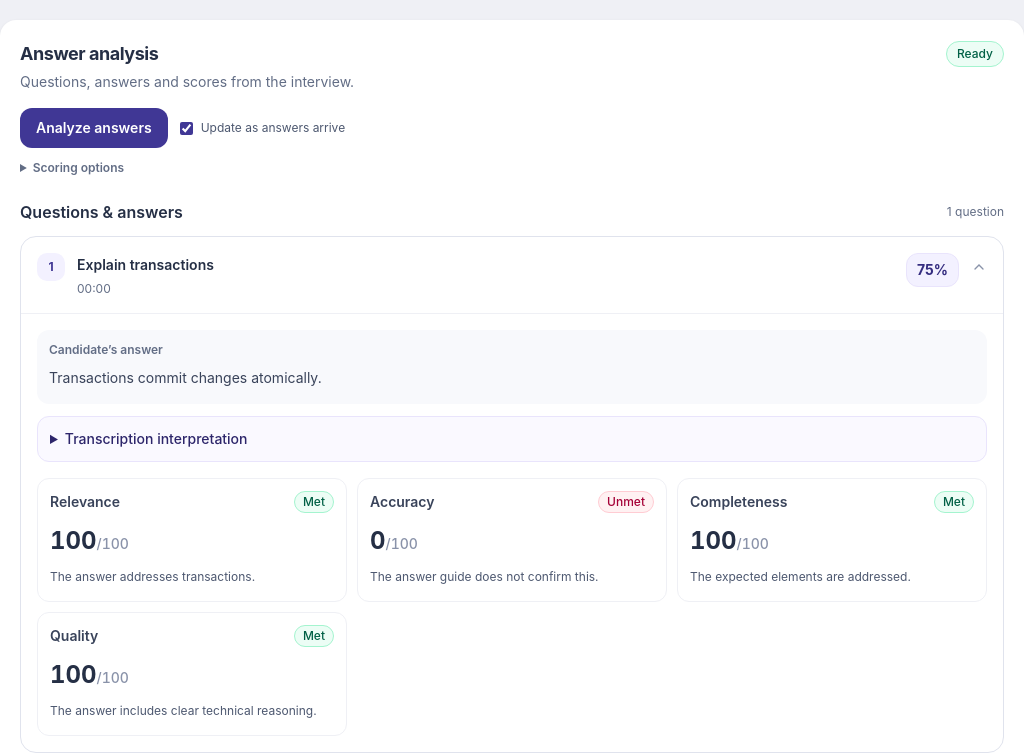
simplified interviewer answer analysis › discloses contextual ASR readings while leaving the original answer unchanged
Click the heading "Transcription interpretation": [156, 438] box [65, 430, 248, 447]
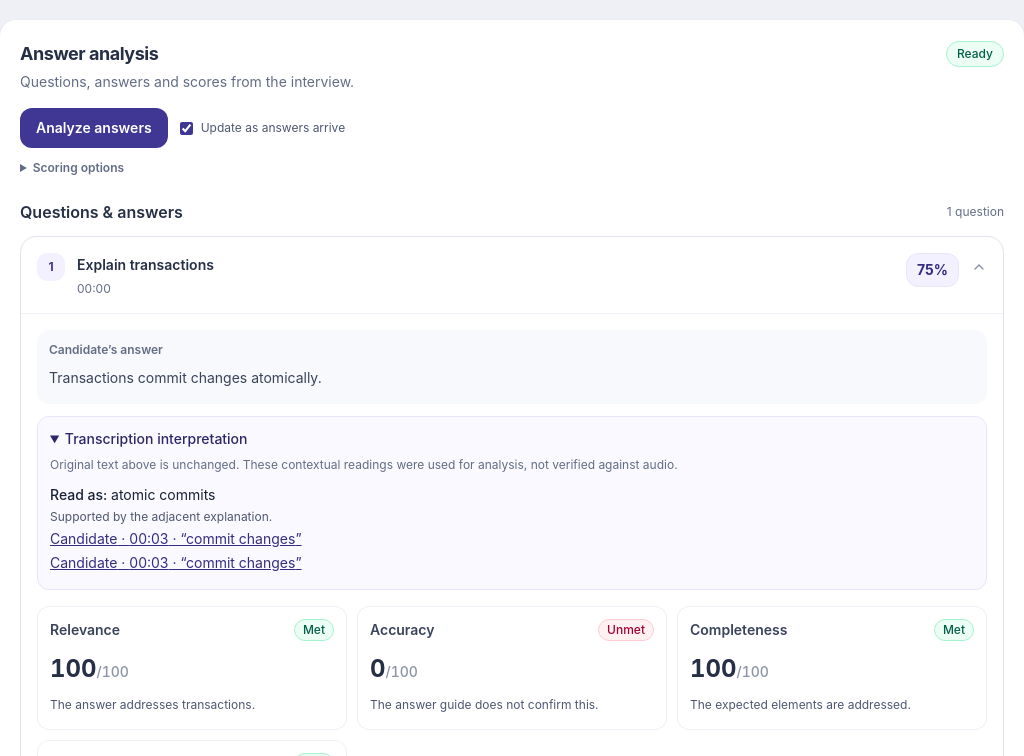
Check: the text "Transactions commit changes atomically." is shown, box [49, 369, 322, 386]
Check: the text "atomic commits" is shown, box [111, 486, 215, 503]
Check: the text "not verified against audio" is shown, box [50, 457, 678, 472]
